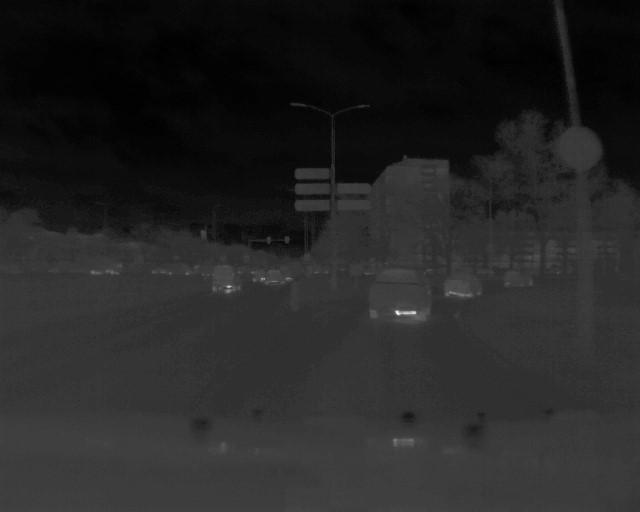car: (365, 263, 439, 322), (443, 272, 484, 300), (211, 263, 244, 295)
